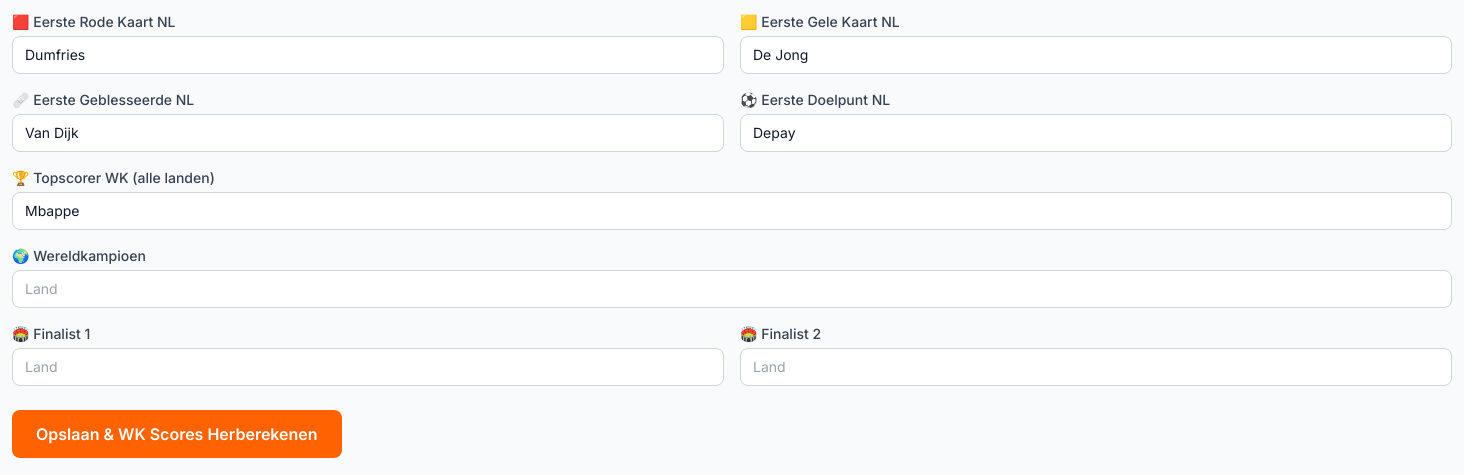
Test case: AdminWkIncidentsForm › shows error when upsert fails
This screenshot has width=1464, height=475.
Click the button at (177, 434), box [12,410,342,458]
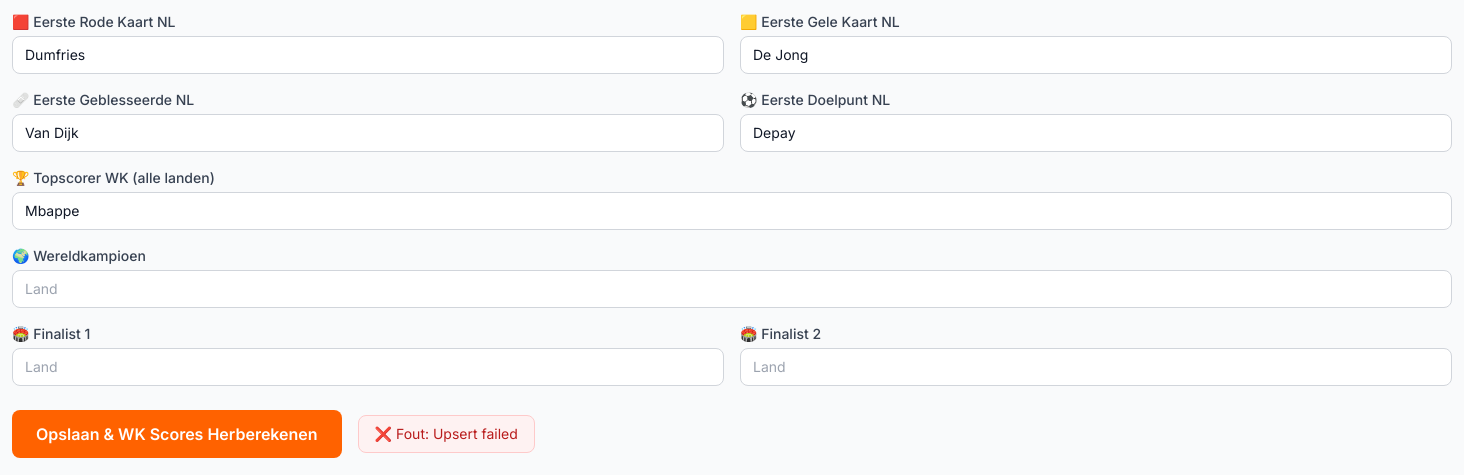
Expected: the text "❌ Fout: Upsert failed" is shown, [358,415,535,453]
